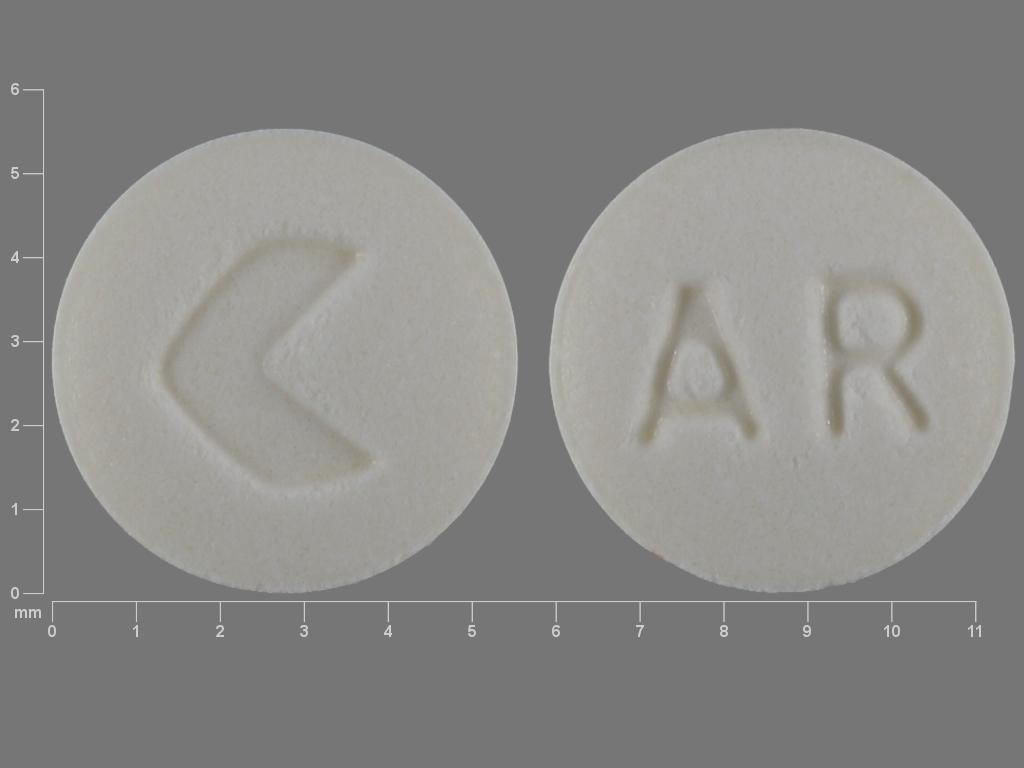Pill: (539, 121, 1024, 599), (46, 123, 524, 596)
